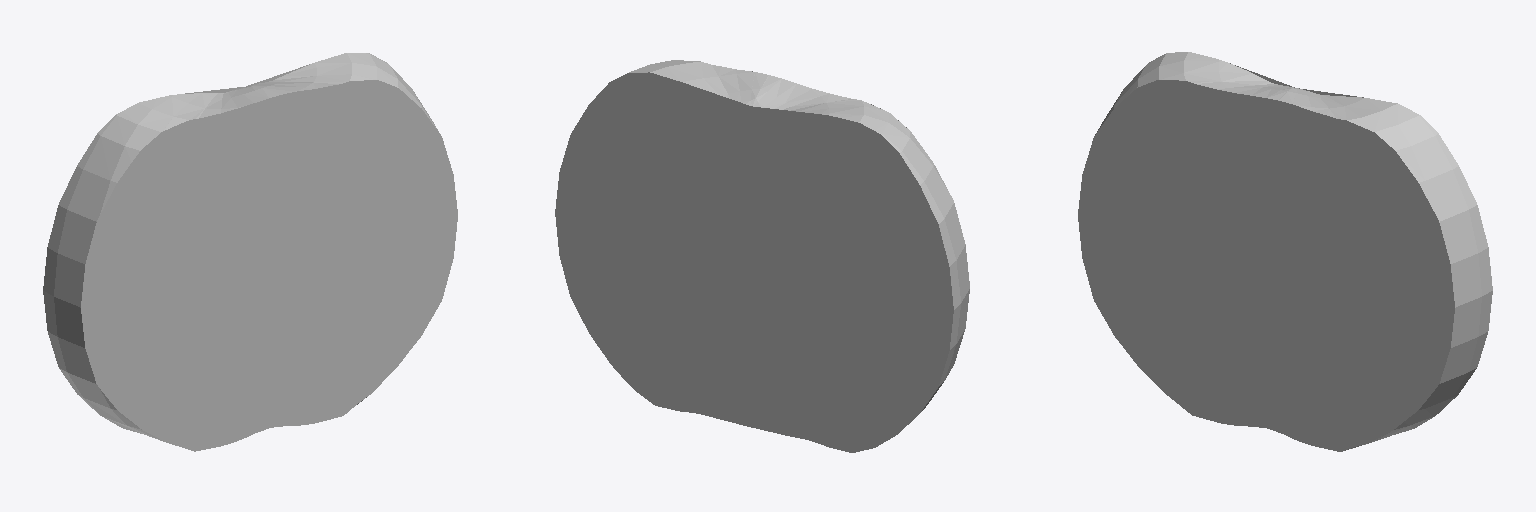
The model's file is apple_slice_06.obj.
The picture shows the model from 3 angles: view 1: azimuth 30°, elevation 25°; view 2: azimuth 150°, elevation 25°; view 3: azimuth 330°, elevation 25°; orthographic projection.
Parts seen in each view (by area): view 1: Apple.Slices.001_Sphere.002; view 2: Apple.Slices.001_Sphere.002; view 3: Apple.Slices.001_Sphere.002.
Boxes of the visible parts, x1=… form: Apple.Slices.001_Sphere.002: x1=43, y1=53, x2=457, y2=451; Apple.Slices.001_Sphere.002: x1=555, y1=60, x2=969, y2=452; Apple.Slices.001_Sphere.002: x1=1078, y1=52, x2=1492, y2=451.
Bounding box in the file's own units: 1.89 × 1.52 × 0.2212.